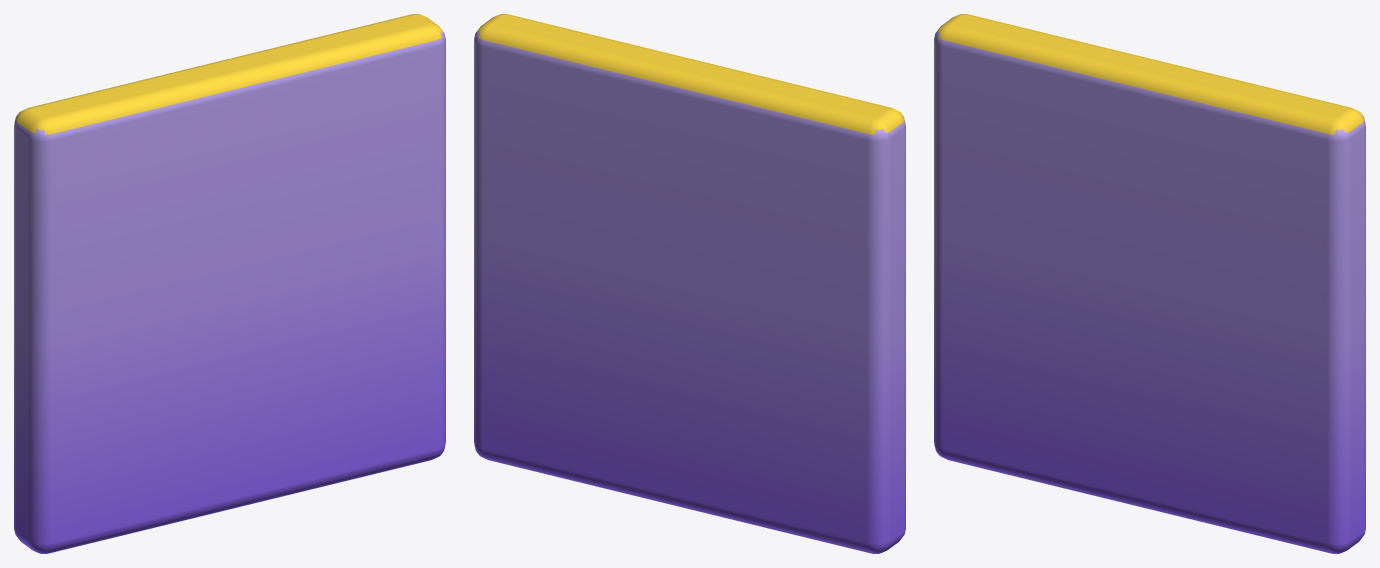
Rendered from wall_4x4.glb.
3 views of the same model, side by side, from view 1: azimuth 30°, elevation 25°; view 2: azimuth 150°, elevation 25°; view 3: azimuth 330°, elevation 25° (orthographic).
Parts seen in each view (by area): view 1: wall_4x4; view 2: wall_4x4; view 3: wall_4x4.
Boxes of the visible parts, left/top/right/bottom form: wall_4x4: left=14, top=14, right=445, bottom=553; wall_4x4: left=474, top=14, right=905, bottom=553; wall_4x4: left=934, top=14, right=1365, bottom=553.
Bounding box in the file's own units: 4 × 4 × 0.5.
Materials: 1 (1 with a texture image).
